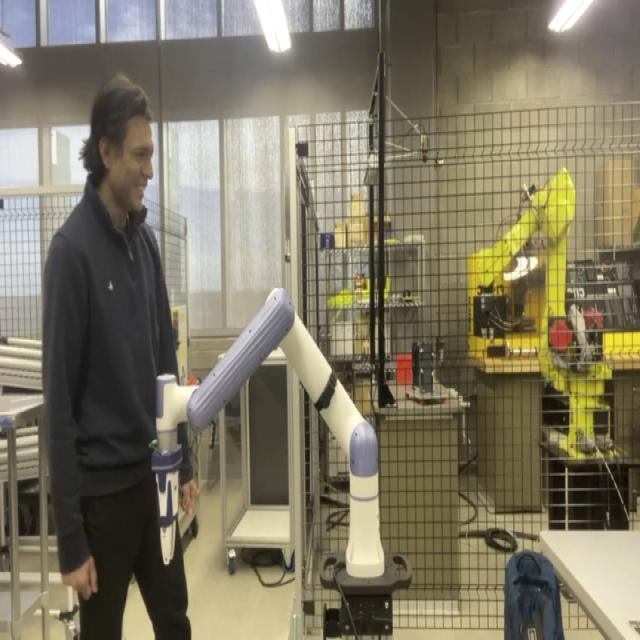robot: (151, 284, 413, 636)
